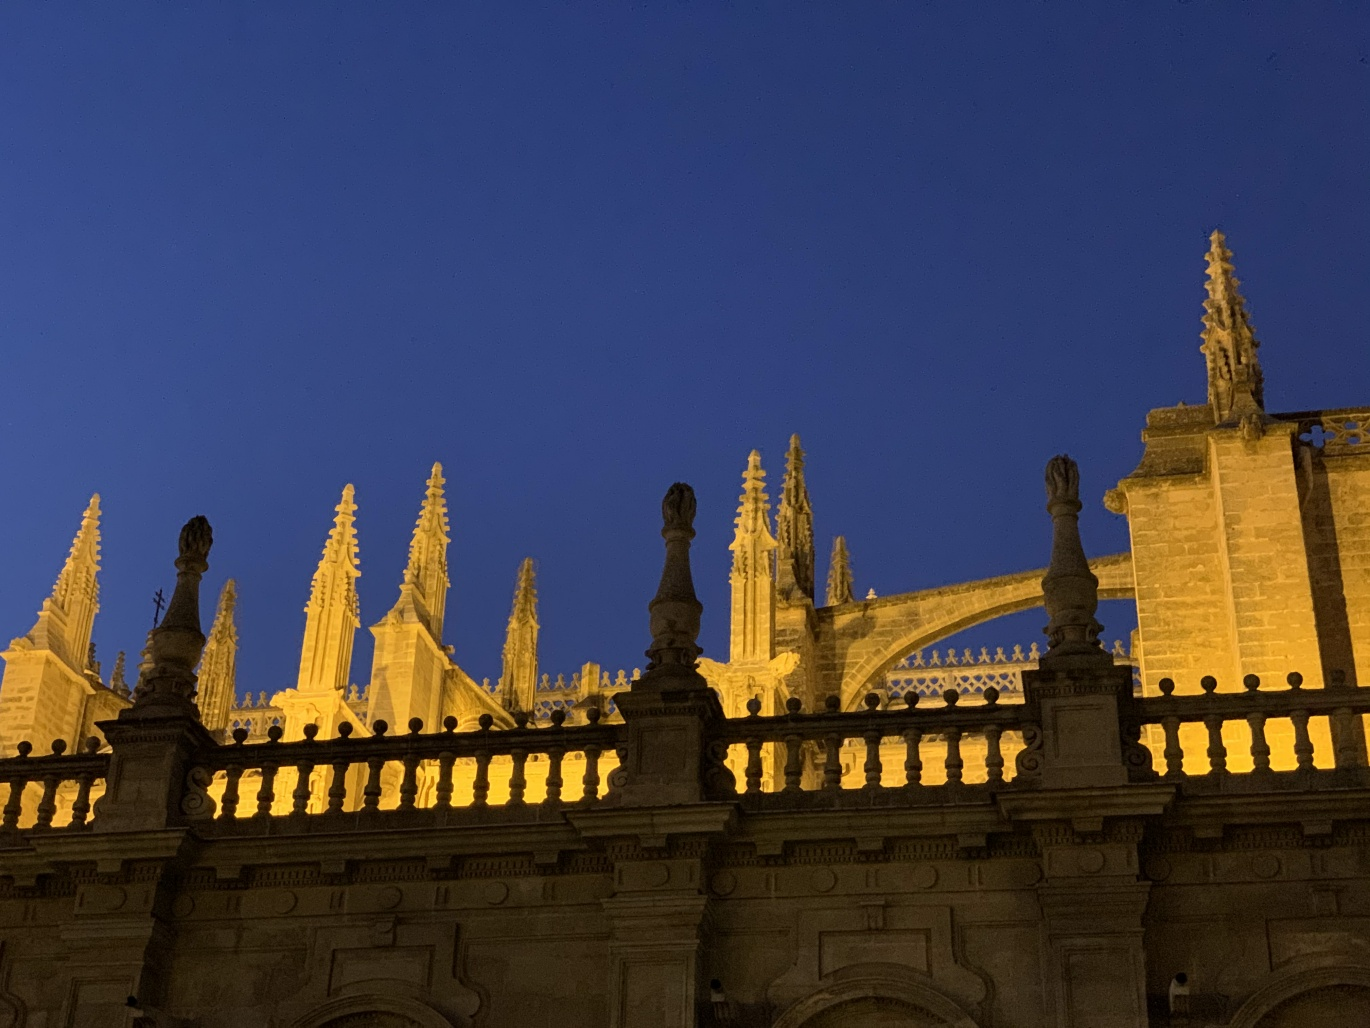pinaculo-gotico: (1199, 209, 1279, 403), (36, 489, 116, 622), (307, 481, 372, 609), (403, 455, 460, 583), (737, 448, 775, 530)
